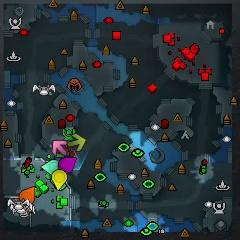p2: (43, 160, 60, 173)
p3: (59, 157, 77, 173)
p4: (52, 170, 67, 190)
p5: (19, 187, 35, 204)
x1: (52, 140, 66, 156)
x2: (68, 134, 85, 151)
